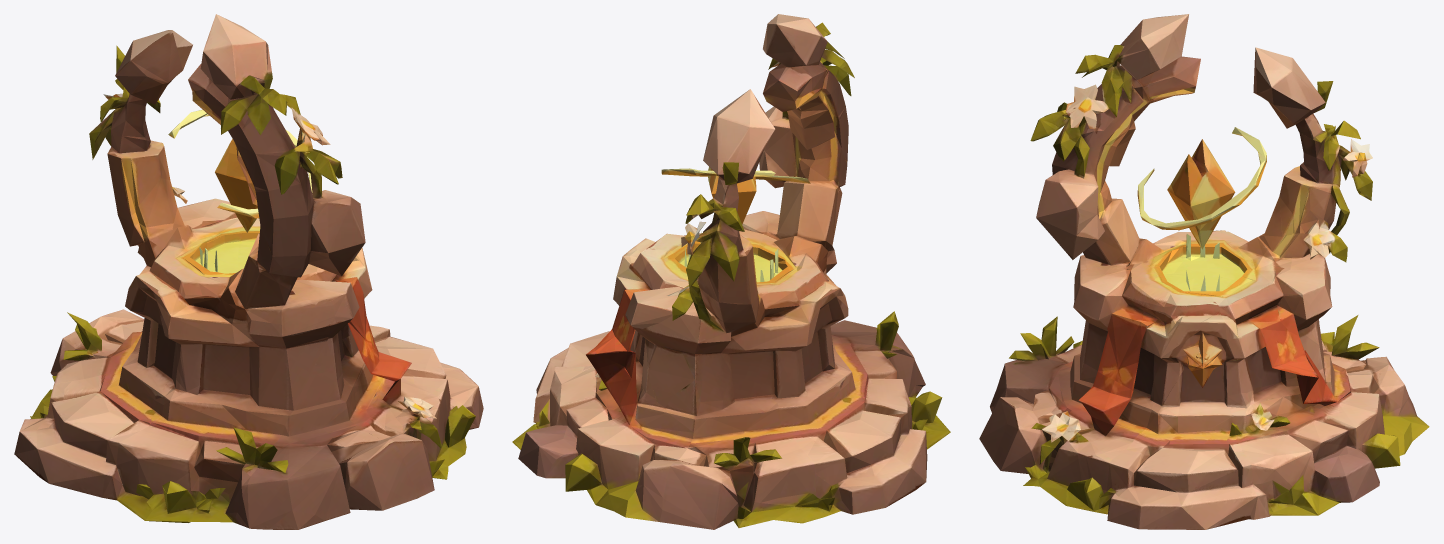
File: KeepSakePedestalV3-v1.glb
3 renders of one model, left to right at view 1: azimuth 30°, elevation 25°; view 2: azimuth 150°, elevation 25°; view 3: azimuth 270°, elevation 25°, orthographic. The views are drawn at different scales.
Parts seen in each view (by area): view 1: tripo_node_89aa2186-1a9e-49f7-bc14-4f25a7e8d227; view 2: tripo_node_89aa2186-1a9e-49f7-bc14-4f25a7e8d227; view 3: tripo_node_89aa2186-1a9e-49f7-bc14-4f25a7e8d227.
Part boxes in pixels (x1,y1,x2,y2): tripo_node_89aa2186-1a9e-49f7-bc14-4f25a7e8d227: [14, 14, 483, 529]; tripo_node_89aa2186-1a9e-49f7-bc14-4f25a7e8d227: [512, 14, 950, 529]; tripo_node_89aa2186-1a9e-49f7-bc14-4f25a7e8d227: [979, 14, 1429, 529].
Size of the model in its own units: 0.9452 by 0.9788 by 0.9779.
1 material, 1 textured.
